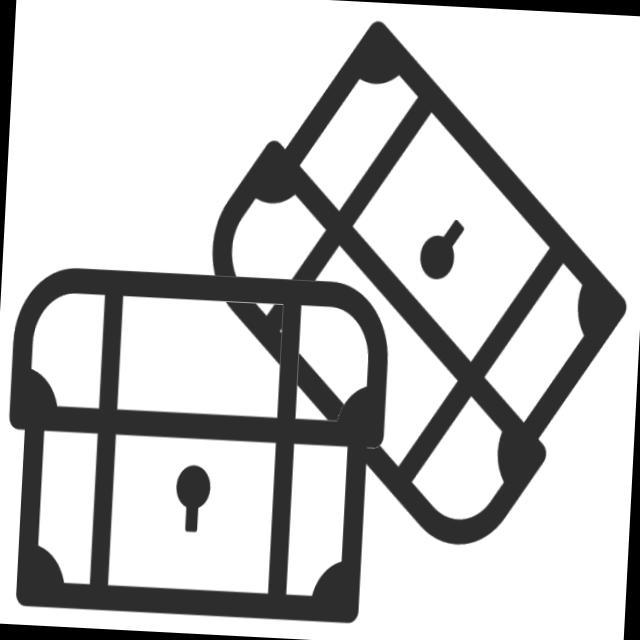treasure_box: (181, 11, 640, 568), (1, 252, 399, 636)
